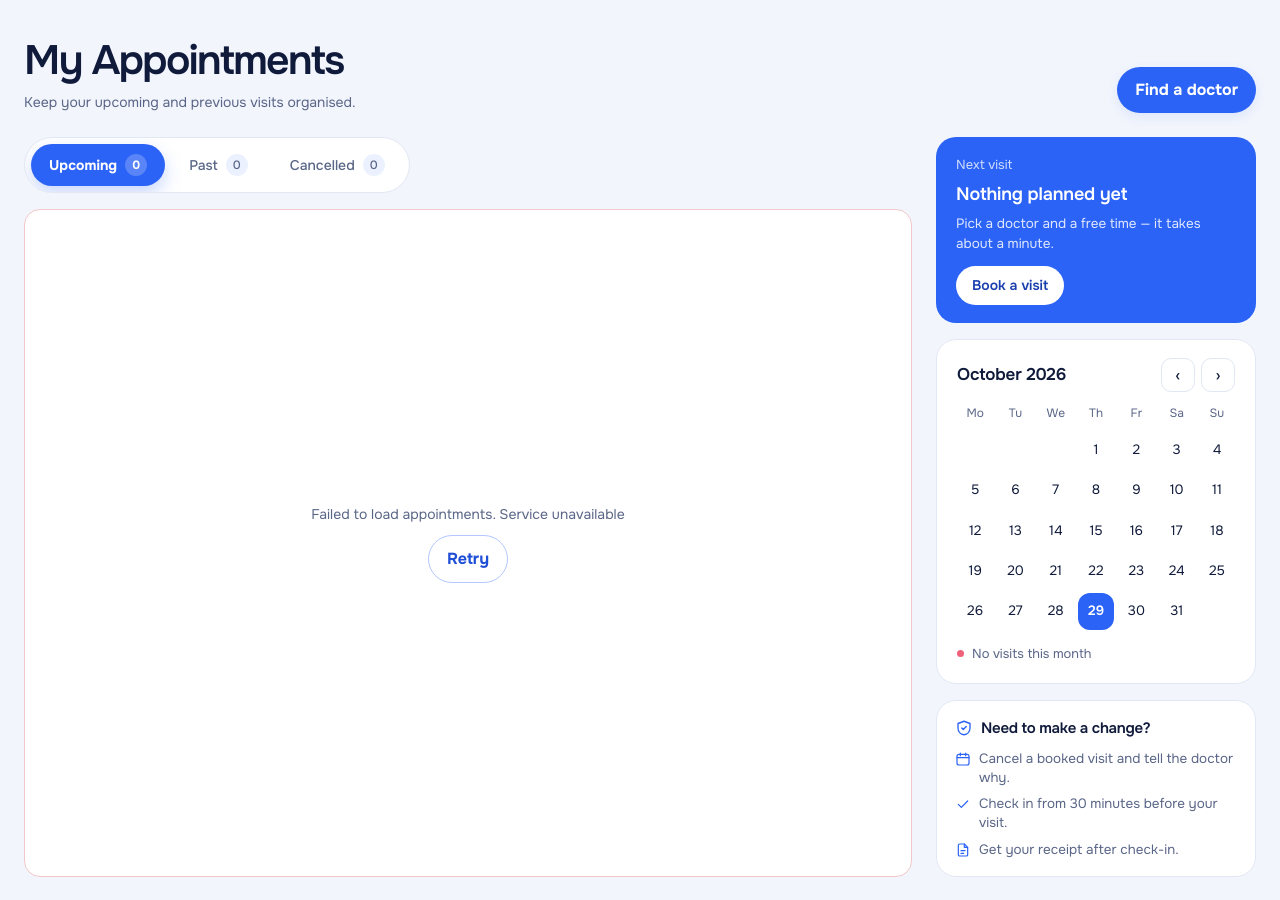
Scenario: patient appointments dashboard › shows a retry action when loading fails
Check: the message "Failed to load appointments. Service unavailable Retry" is shown, box left=24, top=209, right=912, bottom=877
Step 1. Click the button "Retry" → (468, 559), box left=428, top=535, right=508, bottom=583
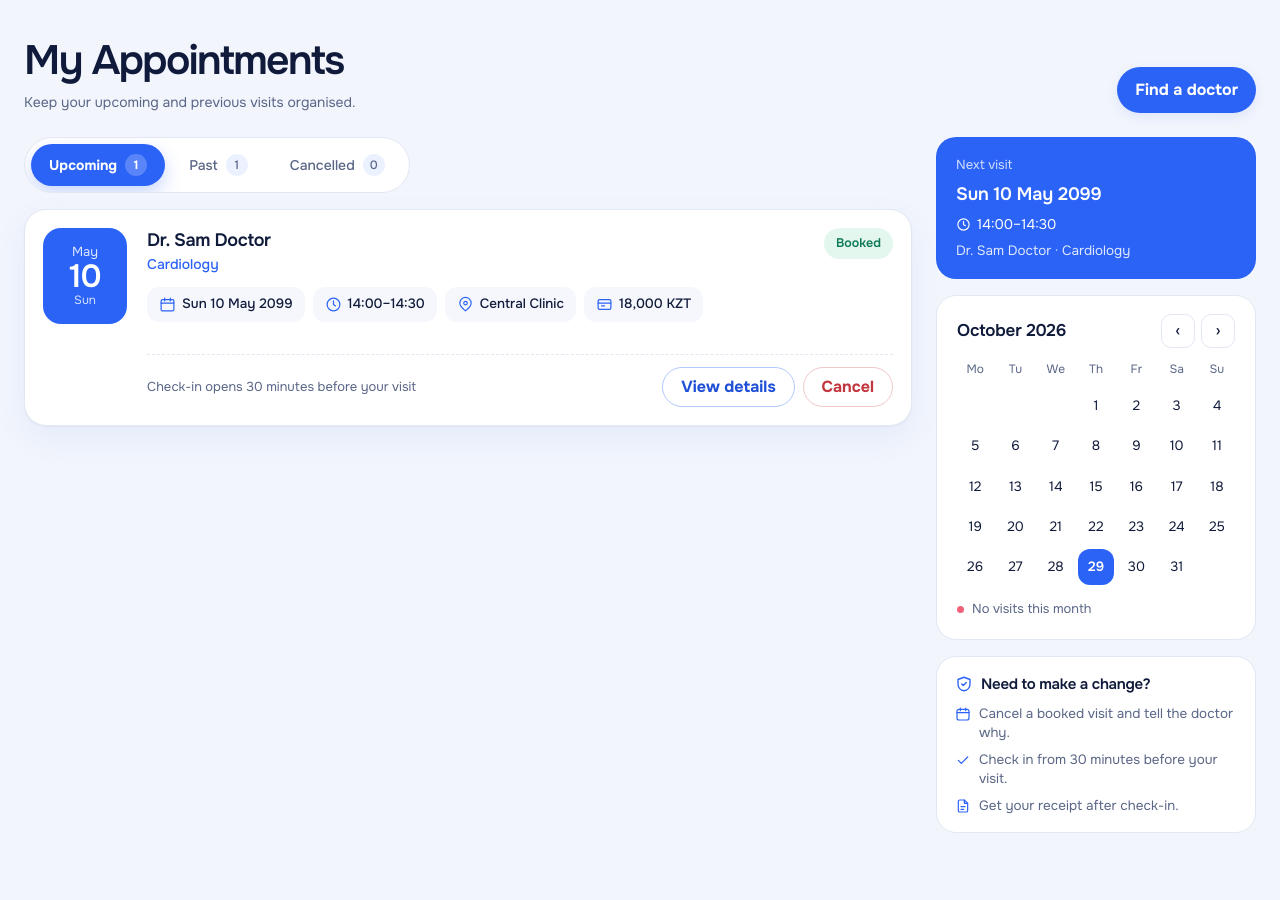
Check: the heading "Dr. Sam Doctor" is shown, box left=147, top=228, right=271, bottom=252
